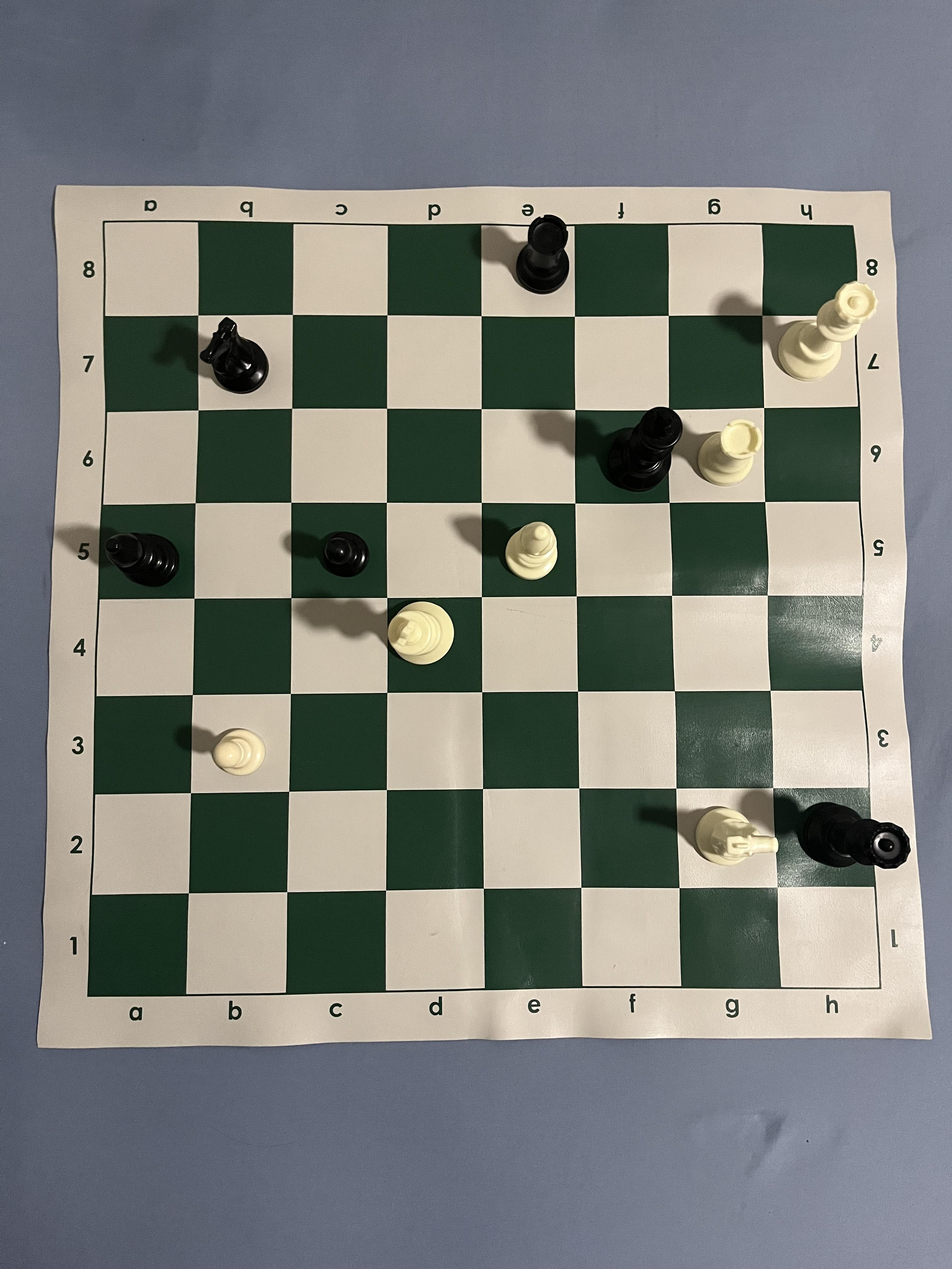black_bishop: (105, 531, 180, 588)
black_king: (606, 407, 684, 493)
black_knight: (200, 317, 269, 395)
black_pawn: (319, 531, 370, 579)
black_queen: (802, 801, 911, 870)
black_rook: (516, 214, 571, 295)
white_bishop: (504, 522, 559, 581)
white_king: (387, 601, 456, 665)
white_knight: (694, 804, 780, 867)
white_pawn: (211, 727, 266, 777)
white_queen: (777, 281, 877, 382)
white_rook: (697, 419, 764, 488)
